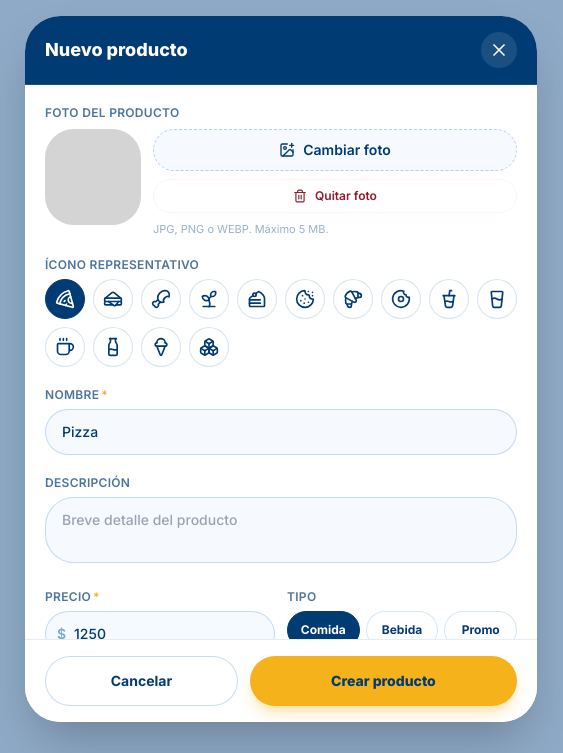
Test: ProductFormDialog › keeps dialog open and shows warning when image upload fails after create
Earlier steps of the test are not shown.
Click the button "Crear producto".
click(383, 681)  # box x1=250 y1=656 x2=517 y2=706
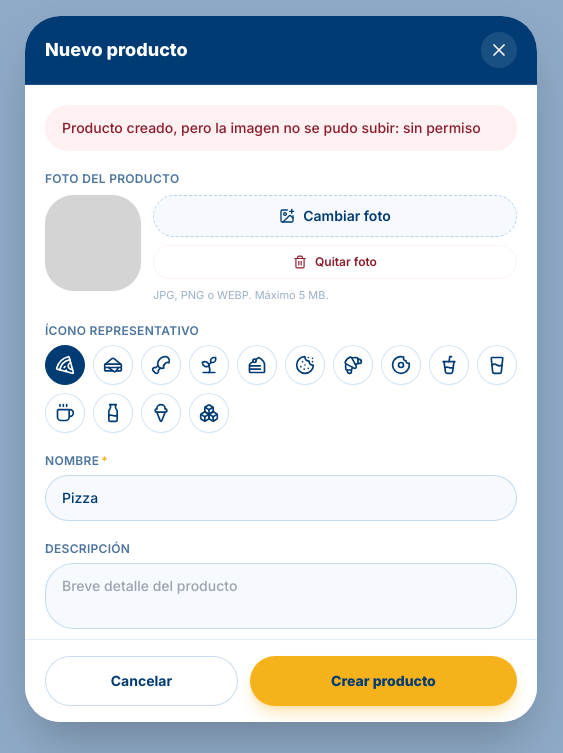
Result: the text "Producto creado, pero la imagen no se pudo subir: sin permiso" is shown at x1=45 y1=105 x2=517 y2=151
